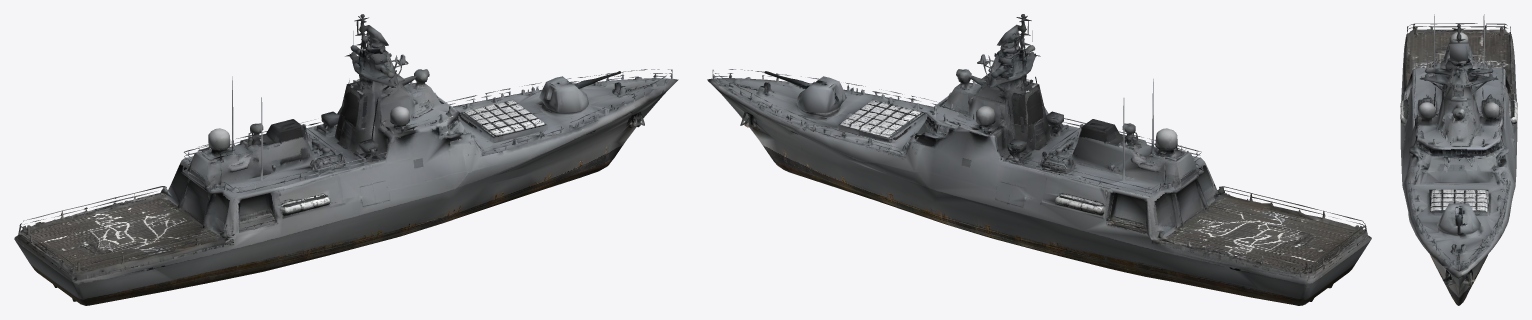
Rendered from boat_frigate.glb.
3 views of the same model, side by side, from view 1: azimuth 30°, elevation 25°; view 2: azimuth 150°, elevation 25°; view 3: azimuth 270°, elevation 25° (orthographic). The views are drawn at different scales.
Parts seen in each view (by area): view 1: geometry_0; view 2: geometry_0; view 3: geometry_0.
Boxes of the visible parts, <box> form: geometry_0: <box>14,14,678,305</box>; geometry_0: <box>707,14,1371,305</box>; geometry_0: <box>1400,14,1517,305</box>.
Size of the model in its own units: 1.16 by 0.3736 by 0.2192.
Materials: 1 (1 with a texture image).
